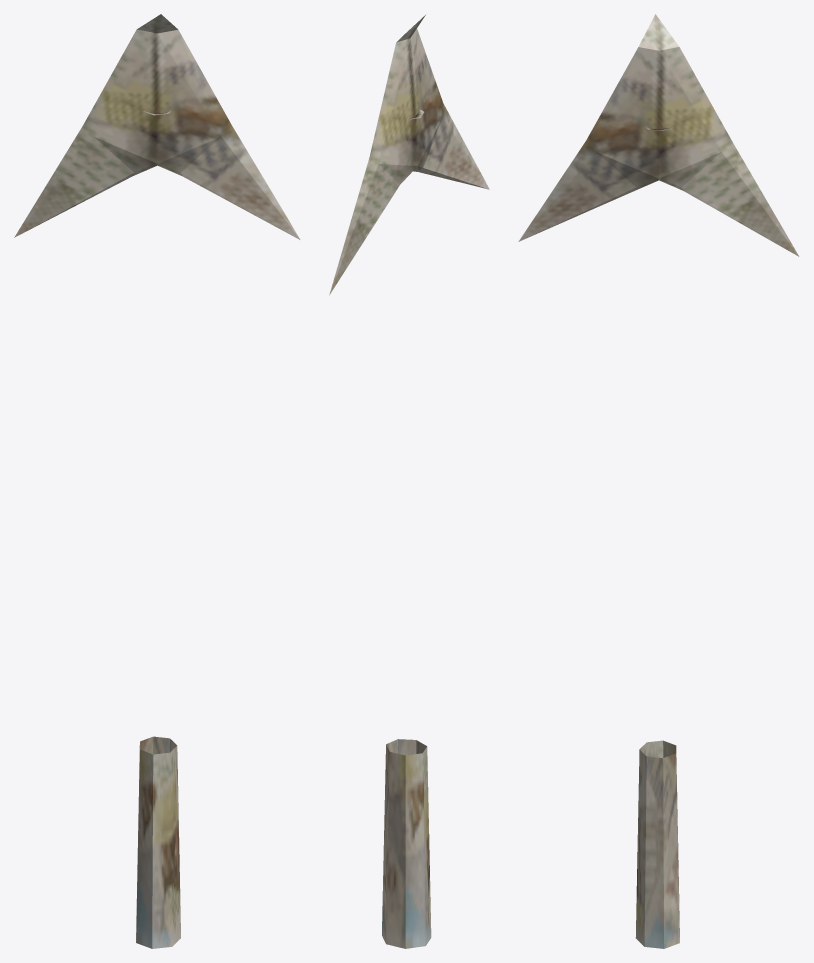
File: Whale_paperWeapon_lance.obj
3 views of the same model, side by side, from view 1: azimuth 90°, elevation 25°; view 2: azimuth 150°, elevation 25°; view 3: azimuth 270°, elevation 25° (orthographic).
Visible parts, largest first — view 1: Whale_paperWeapon_tri [lance]; view 2: Whale_paperWeapon_tri [lance]; view 3: Whale_paperWeapon_tri [lance].
Boxes of the visible parts, left/top/right/bottom form: Whale_paperWeapon_tri [lance]: left=14, top=14, right=300, bottom=948; Whale_paperWeapon_tri [lance]: left=329, top=15, right=489, bottom=948; Whale_paperWeapon_tri [lance]: left=518, top=14, right=799, bottom=948.
Bounding box in the file's own units: 0.0991 × 2 × 0.5574.
1 material, 1 textured.
